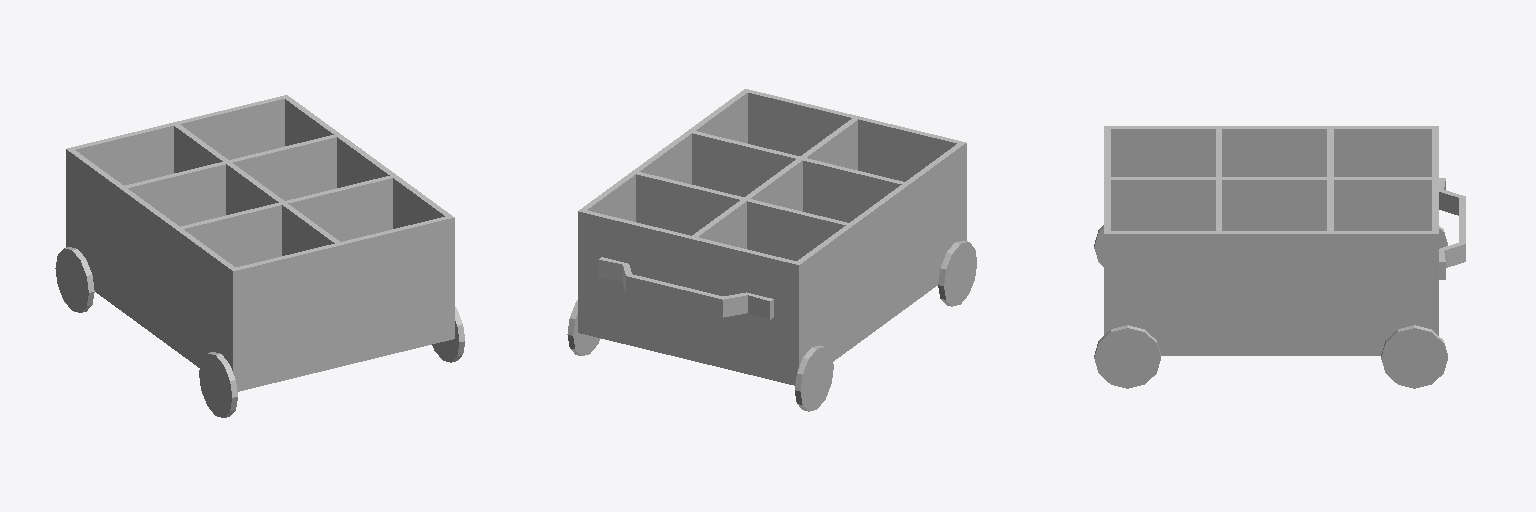
Rendered from cart_packages.obj.
The picture shows the model from 3 angles: view 1: azimuth 30°, elevation 25°; view 2: azimuth 150°, elevation 25°; view 3: azimuth 270°, elevation 25°; orthographic projection.
Visible parts, largest first — view 1: CartPackages; view 2: CartPackages; view 3: CartPackages.
Part boxes in pixels (left/top/right/bottom): CartPackages: left=55, top=95, right=464, bottom=417; CartPackages: left=567, top=89, right=976, bottom=411; CartPackages: left=1094, top=126, right=1465, bottom=388.
Size of the model in its own units: 0.4013 by 0.25 by 0.5542.